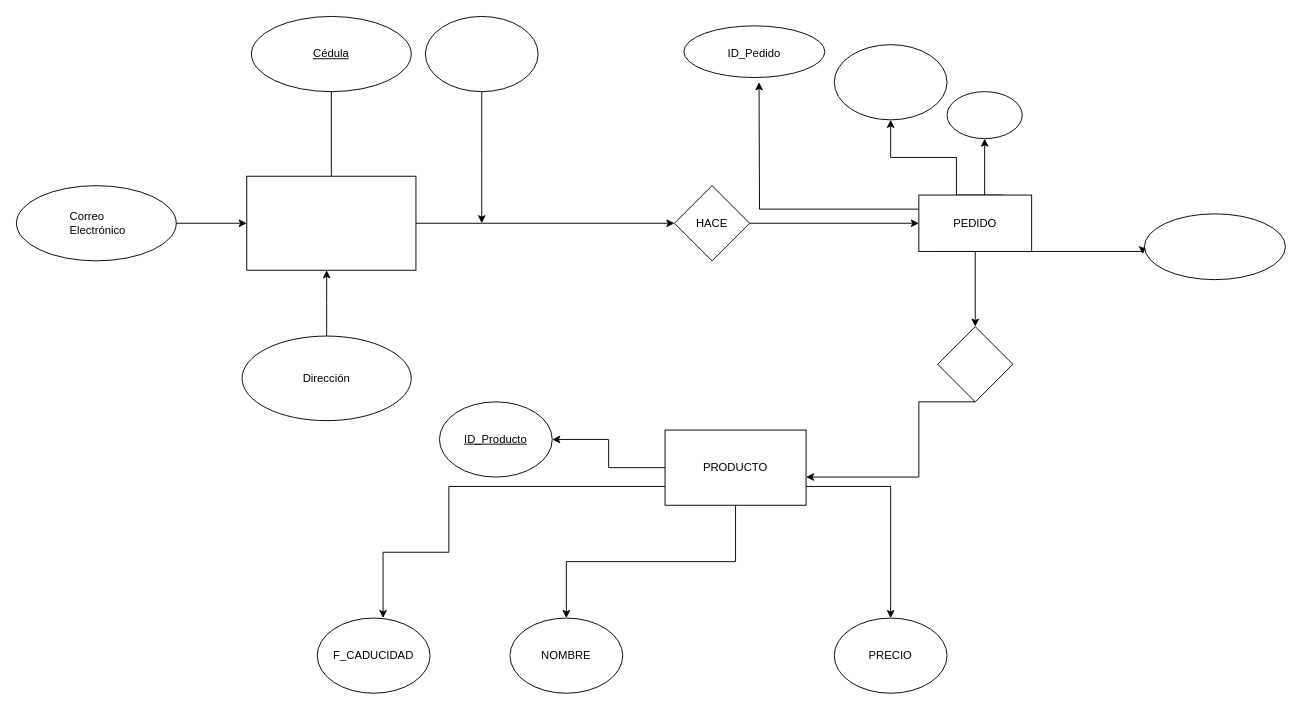
Some shapes in this 1302 by 710 pixel diagram are drawn without their labels. The centre of each missing label's shape, as x and y in pixels:
"CLIENTE" goes at [331,222].
"Contiene" goes at [975,364].
"Dirección_Envío" goes at [1214,246].
"Edas" goes at [481,54].
"Fecha_Compra" goes at [890,82].
"nombre_est" goes at [984,115].
